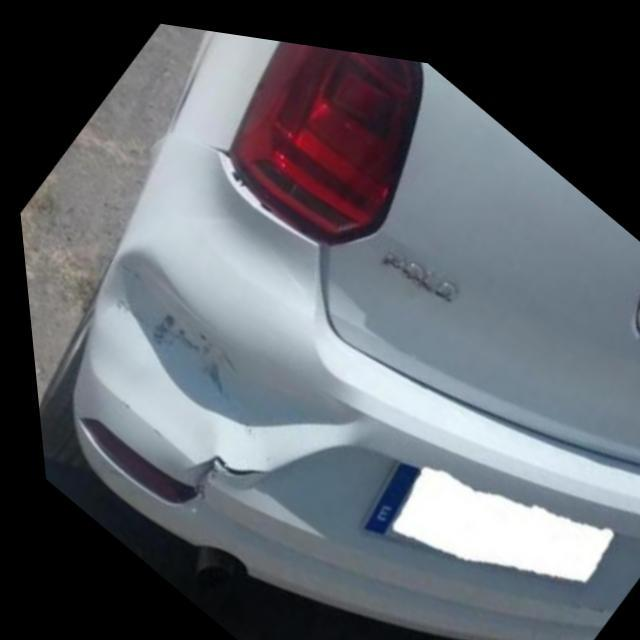dent: (66, 242, 364, 506)
dislocated part: (198, 134, 335, 256)
